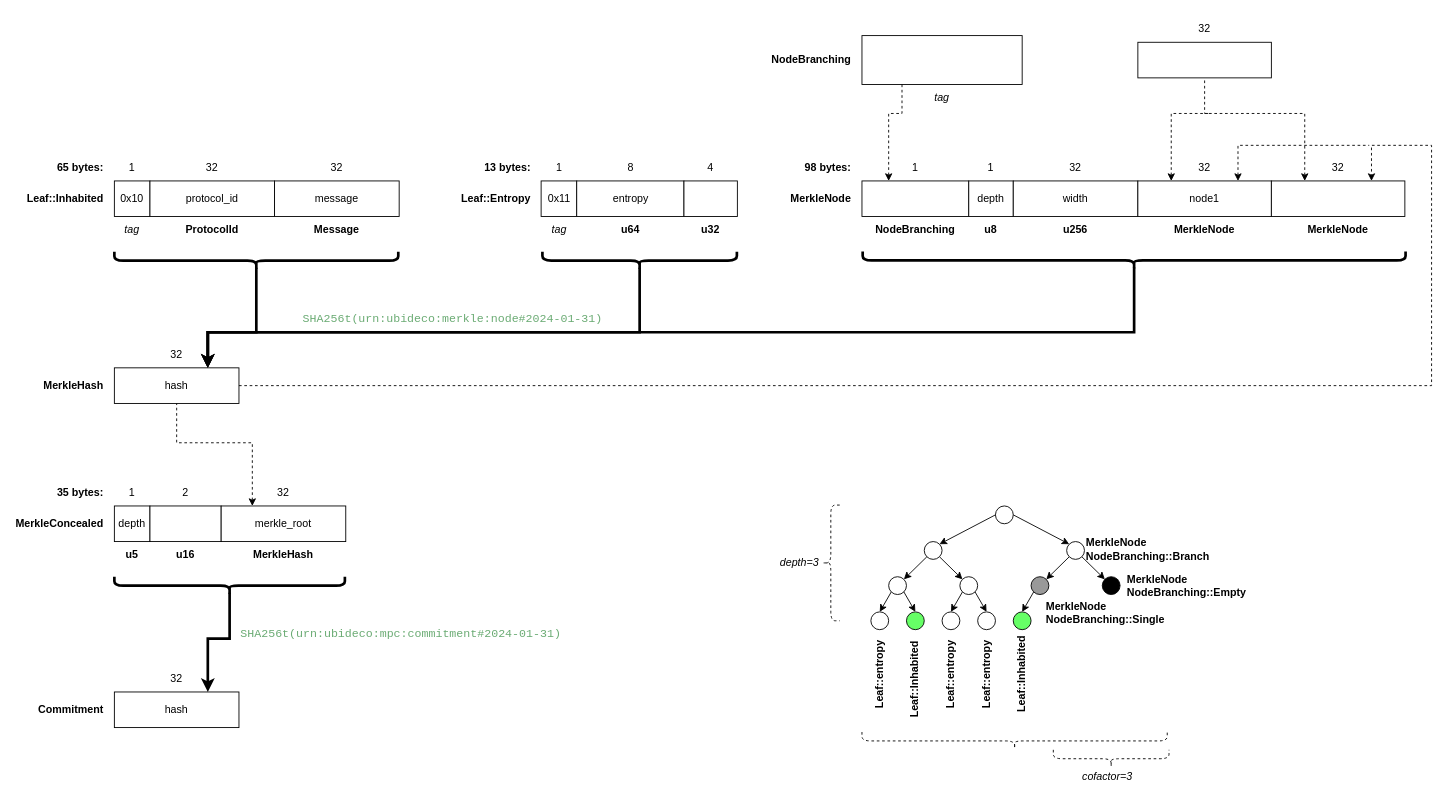
Some shapes in this 1454 by 805 pixel diagram are drawn without their labels. Here are the shapes that lost their labels. From the top down, the centre of each, then its label:
At (941,60): "0x00: empty (two virtual leafs) 0x01: single (one virtual leaf) 0x02: branch".
At (1204,59): "VIRTUAL_LEAF = u256::MAX".
At (710,198): "pos".
At (915,198): "branching".
At (1337,198): "node2".
At (185,523): "cofactor".
At (1014,740): "width=8 (2^depth)".
